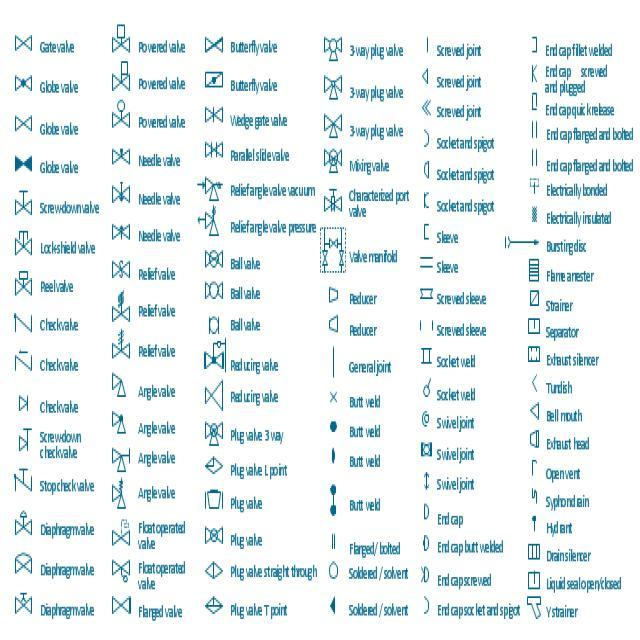3 Way Ball Valve: (202, 414, 225, 451)
3 Way Gate Valve: (323, 106, 344, 140)
3 Way Globe Valve: (322, 76, 344, 102)
4 Way Ball Valve: (323, 34, 345, 64)
Angle GlobeValve: (111, 406, 130, 442)
Angle Valve: (109, 372, 130, 404)
Ball Valve: (202, 244, 226, 274), (202, 310, 222, 339), (202, 278, 226, 302)
Check Valve: (13, 310, 35, 340), (13, 348, 34, 378)
Closed Gate Valve: (12, 146, 37, 180)
Gate Valve: (202, 29, 228, 62), (10, 28, 36, 56), (14, 107, 35, 137)
Globe Valve: (12, 67, 36, 98)
Hand Operated Gate Valve: (14, 187, 34, 216)
Needle Valve: (319, 184, 344, 218), (202, 99, 226, 131), (110, 216, 134, 246), (110, 143, 134, 172), (110, 177, 133, 205)
Plug Valve: (206, 522, 226, 548)
Pneumatic-Diaphragm Gate Valve: (13, 507, 37, 545)
Powered Gate Valve: (107, 18, 133, 58)
Relief Valve: (112, 322, 136, 368), (110, 472, 130, 517)
